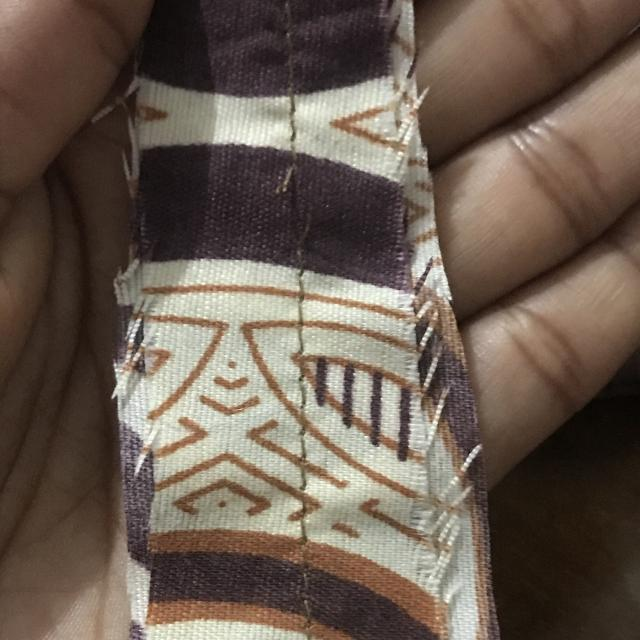broken: (259, 147, 328, 265)
